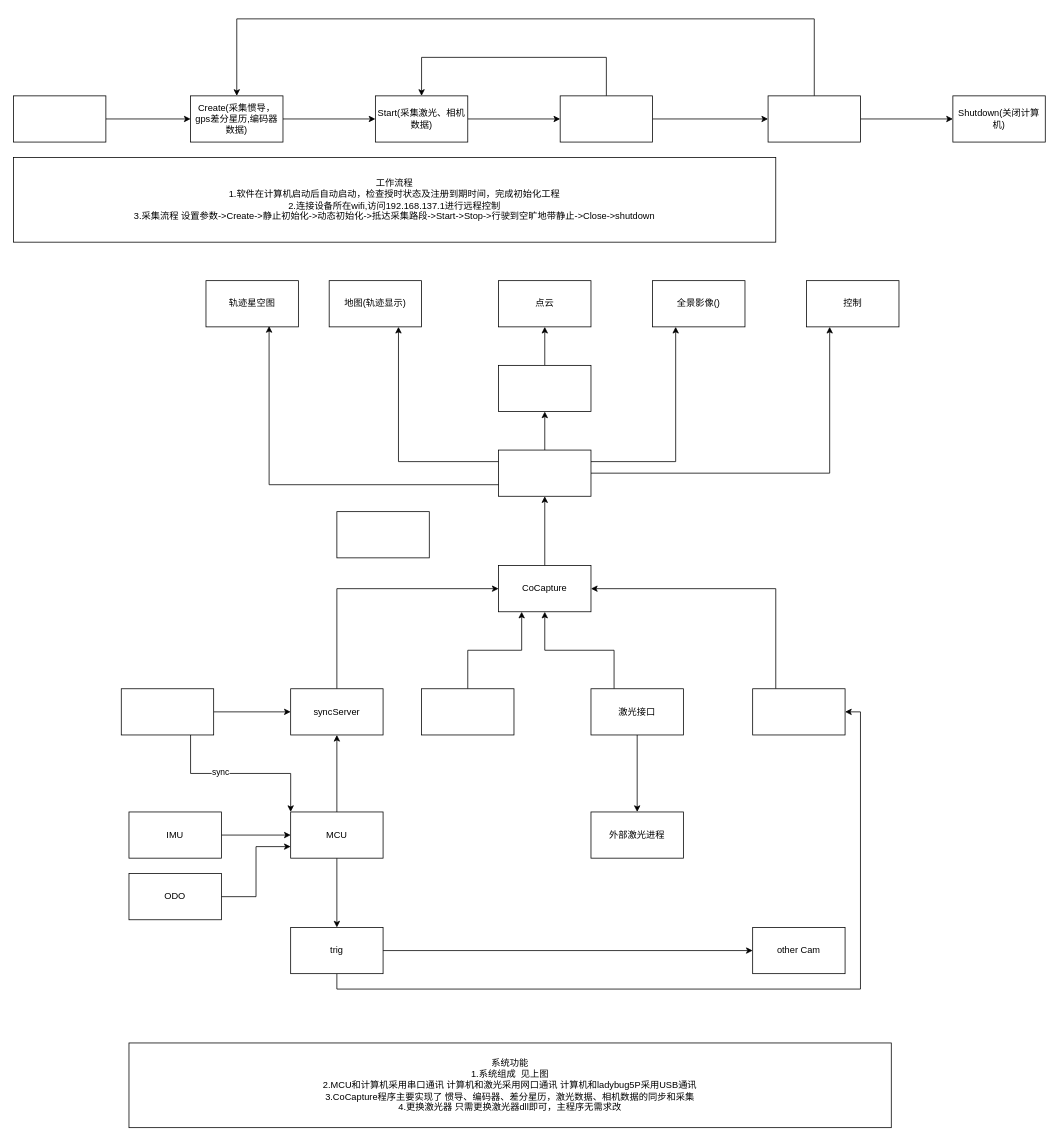
This 1059x1141 diagram has some shape labels left out. Here are the shapes that lost their labels. From the top down, the centre of each, then its label:
point 59,118: init(授时，授权)
point 606,118: Stop（停止采集激光相机数据)
point 813,118: Close(停止采集惯导差分星历编码器数据)
point 544,388: webGL
point 544,472: 网页
point 382,534: 地图基础数据库
point 167,711: GNSS
point 467,711: httpServer
point 798,711: Ladybug5/5p
